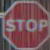Stop: (3, 1, 48, 49)
